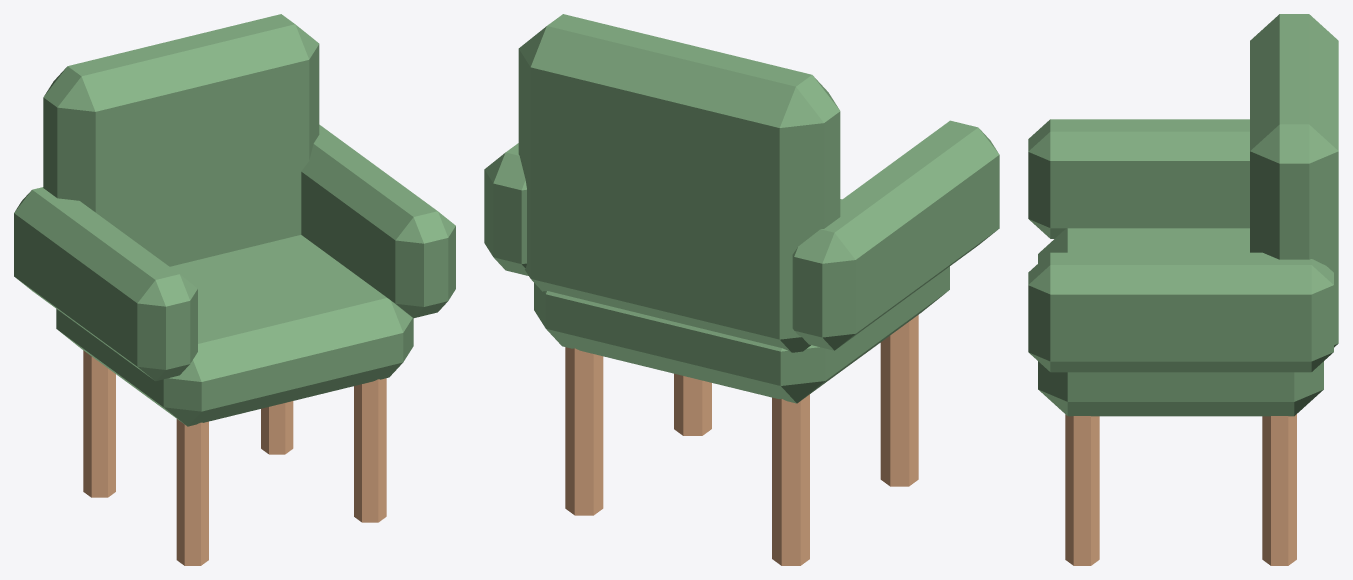
3 renders of one model, left to right at view 1: azimuth 30°, elevation 25°; view 2: azimuth 150°, elevation 25°; view 3: azimuth 270°, elevation 25°, orthographic. The views are drawn at different scales.
Visible parts, largest first — view 1: Back, Cushion, Arm, Arm.001, Leg, Leg.002, Leg.001, Leg.003; view 2: Back, Arm, Cushion, Leg.003, Leg.001, Leg, Arm.001, Leg.002; view 3: Arm.001, Arm, Back, Cushion, Leg.002, Leg.003.
Part boxes in pixels (x1,y1,x2,y2): Back: [43, 14, 319, 266]; Cushion: [56, 235, 413, 426]; Arm: [14, 187, 197, 381]; Arm.001: [301, 124, 455, 318]; Leg: [176, 419, 208, 565]; Leg.002: [354, 378, 386, 522]; Leg.001: [83, 350, 115, 497]; Leg.003: [261, 401, 293, 454]; Back: [518, 14, 840, 352]; Arm: [792, 120, 999, 350]; Cushion: [534, 199, 949, 403]; Leg.003: [565, 347, 603, 515]; Leg.001: [772, 394, 809, 565]; Leg: [880, 315, 918, 486]; Arm.001: [484, 143, 528, 275]; Leg.002: [674, 373, 711, 435]; Arm.001: [1028, 252, 1333, 372]; Arm: [1028, 119, 1249, 238]; Back: [1250, 14, 1338, 347]; Cushion: [1038, 228, 1323, 416]; Leg.002: [1065, 414, 1099, 565]; Leg.003: [1262, 414, 1296, 565].
Bounding box in the file's own units: 79 × 99.5 × 63.
